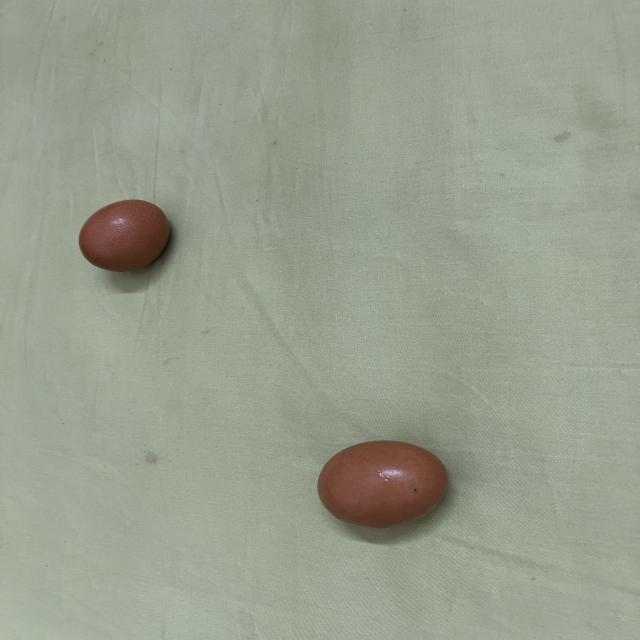egg: (312, 436, 455, 528), (74, 198, 179, 274)
